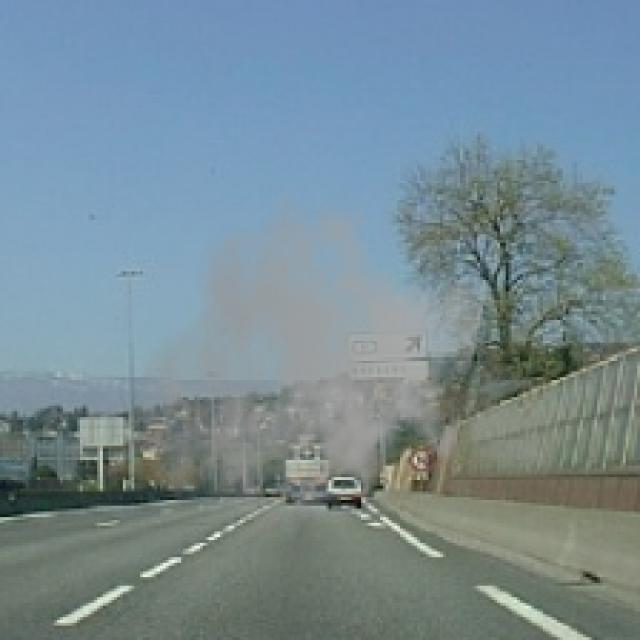smoke: (132, 186, 488, 560)
